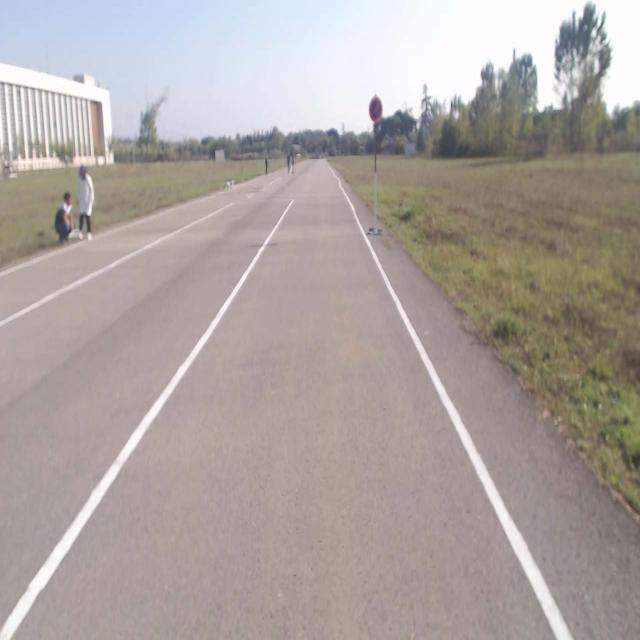parkyasak: (369, 96, 383, 120)
